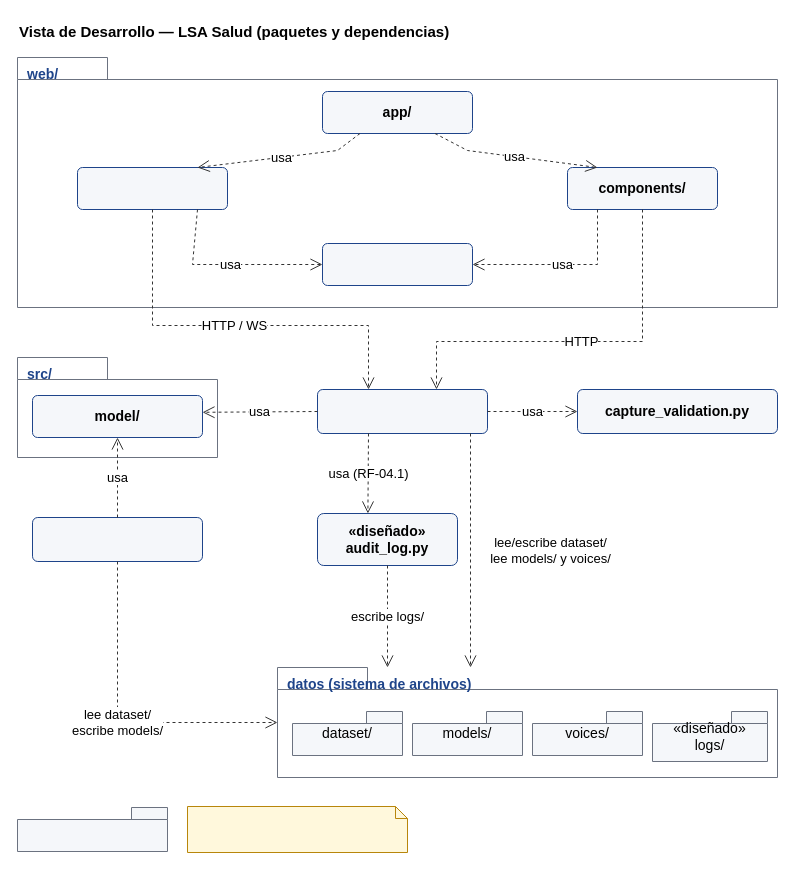
Image size: 795x870. Some labels were removed from this diagram. Here are the shapes that lost their labels. From the top down, the centre of each, then its label:
pixel 152 188: hooks/
pixel 397 264: lib/
pixel 402 411: app.py
pixel 117 539: train_lstm.py
pixel 92 829: docs/
pixel 297 829: Documentación del proyecto; sin dependencias de código.
